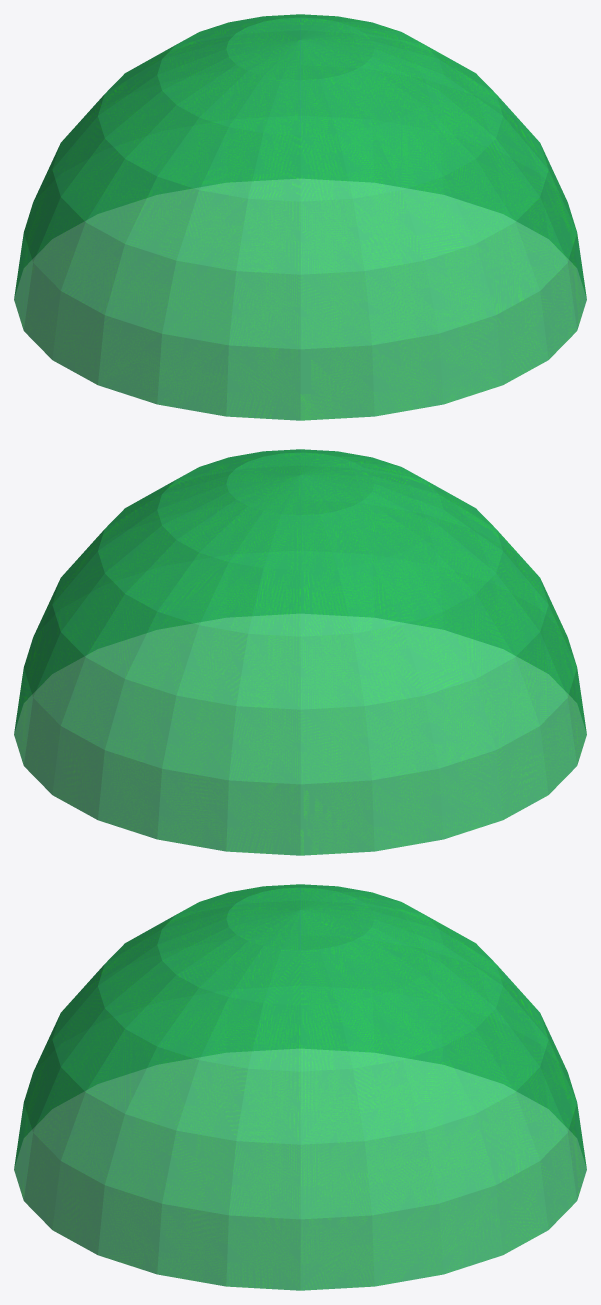
File: green_75_opacity_dome.dae
3 renders of one model, top to bottom at view 1: azimuth 30°, elevation 25°; view 2: azimuth 150°, elevation 25°; view 3: azimuth 270°, elevation 25°, orthographic.
Parts seen in each view (by area): view 1: Component1; view 2: Component1; view 3: Component1.
Part boxes in pixels (<box>): Component1: <box>14,14,586,420</box>; Component1: <box>14,449,586,855</box>; Component1: <box>14,884,586,1290</box>.
Bounding box in the file's own units: 245371 × 245371 × 132150.
